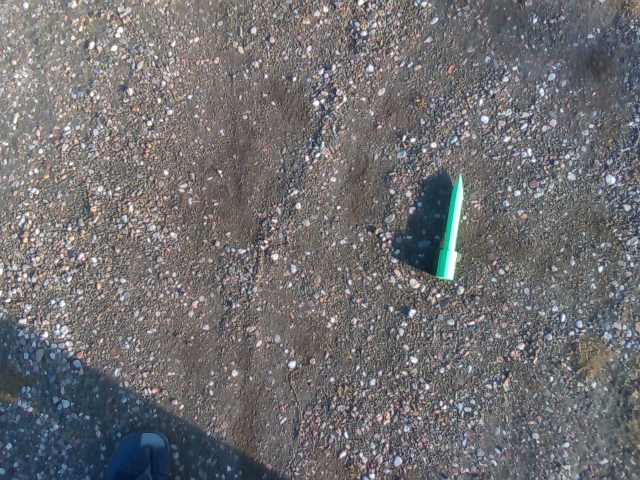Probe: (433, 169, 471, 286)
